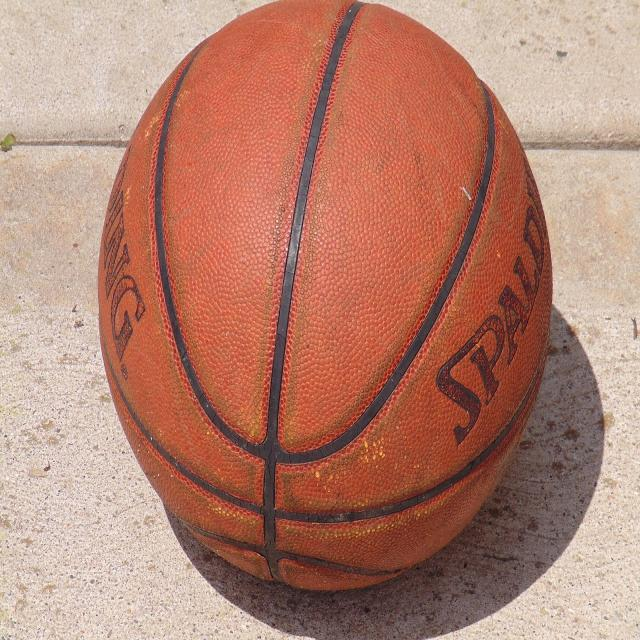Basketball: (97, 1, 551, 592)
